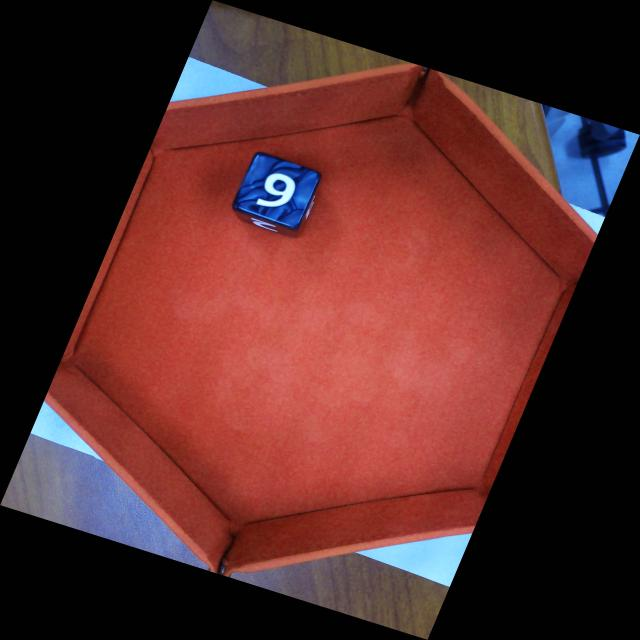dice: (233, 153, 325, 231)
